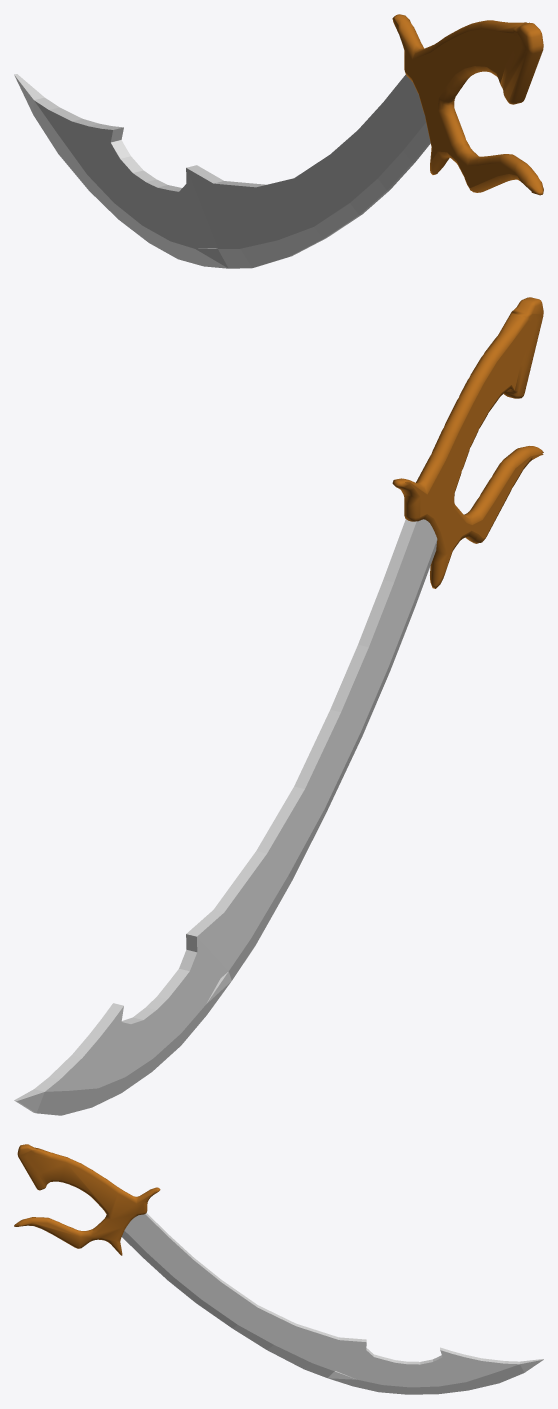
The model's file is gun_1_4.fbx.
3 views of the same model, one above another, from view 1: azimuth 30°, elevation 25°; view 2: azimuth 150°, elevation 25°; view 3: azimuth 270°, elevation 25° (orthographic). The views are drawn at different scales.
Visible parts, largest first — view 1: gun_1_4; view 2: gun_1_4; view 3: gun_1_4.
Boxes of the visible parts, x1,y1,x2,y2 form: gun_1_4: (14, 14, 543, 268); gun_1_4: (14, 297, 543, 1115); gun_1_4: (14, 1144, 543, 1394).
Bounding box in the file's own units: 57.67 × 1786 × 3445.
